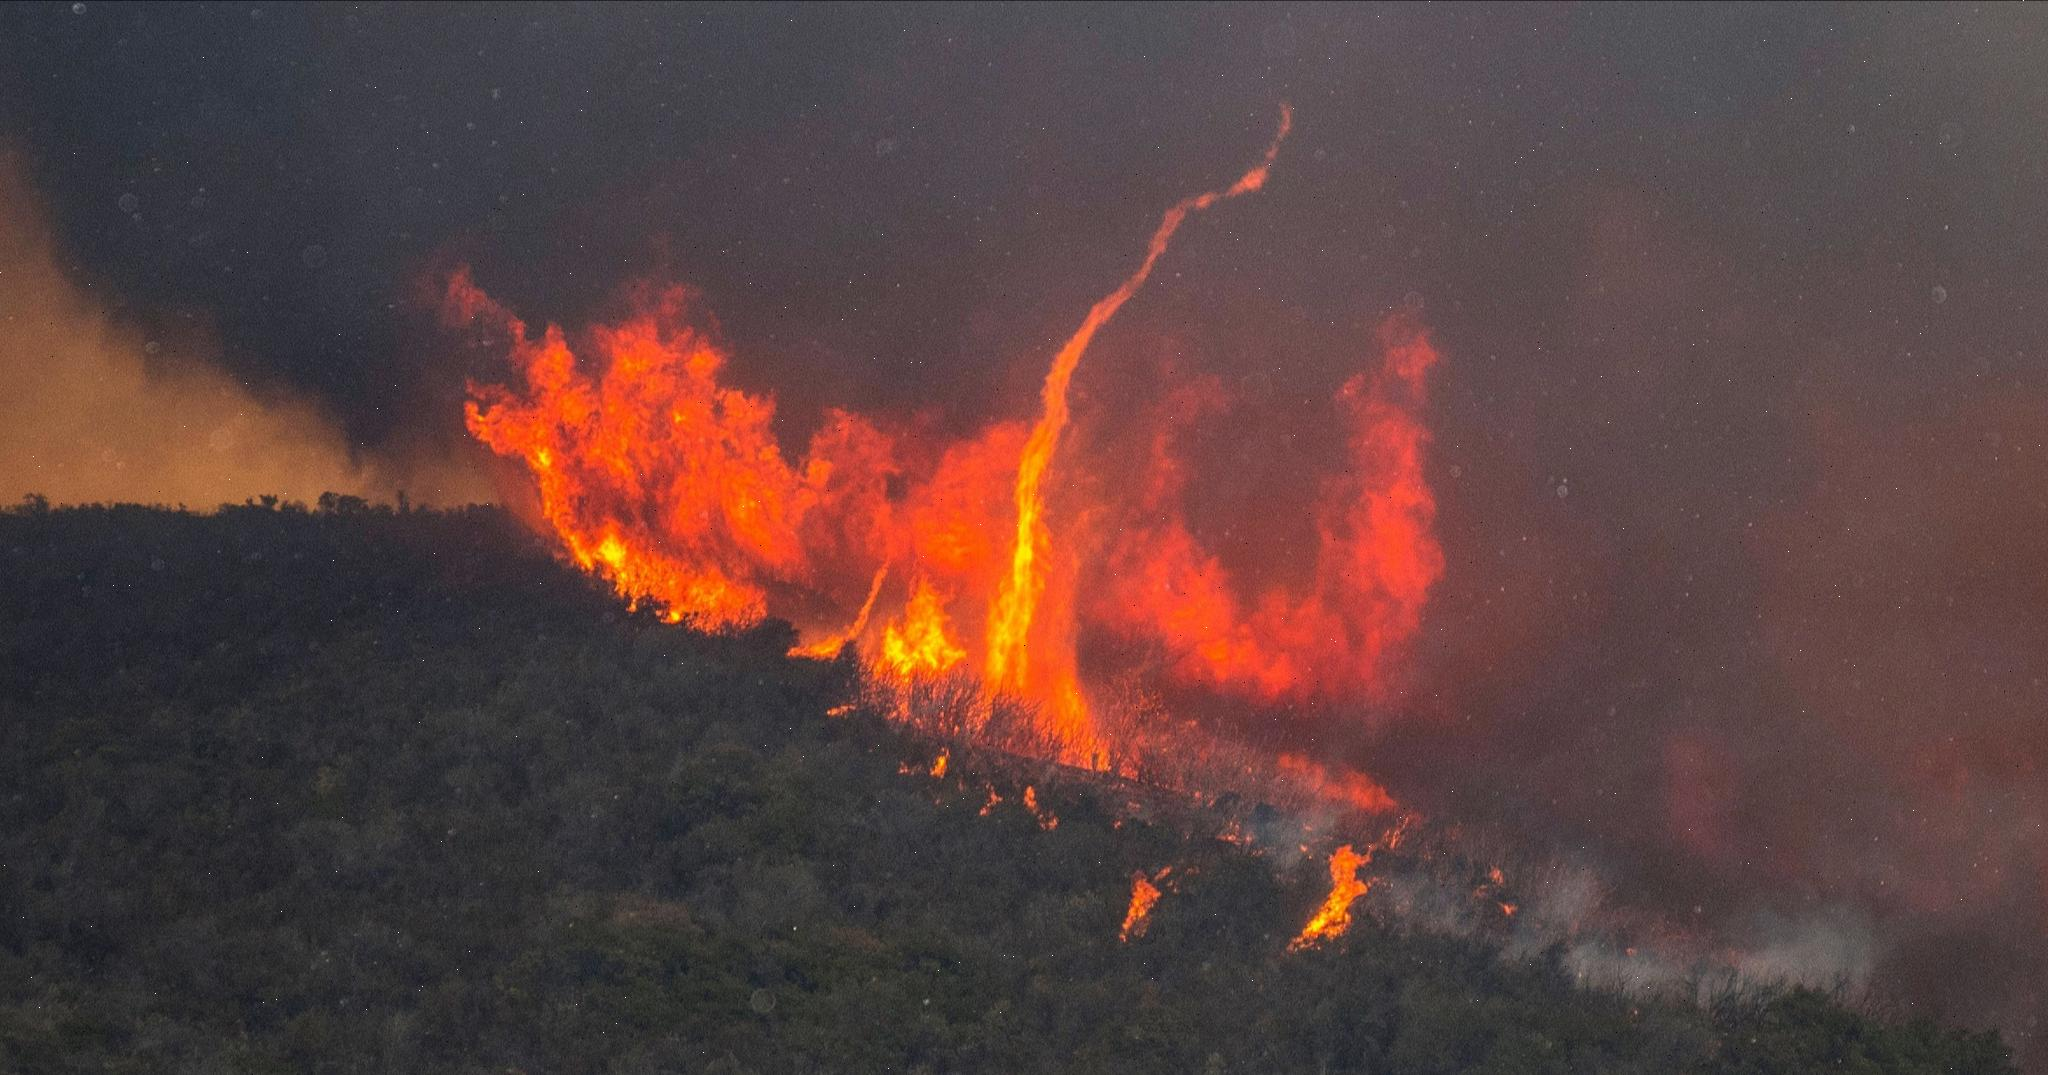fire: (469, 89, 1485, 980)
